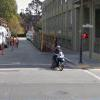Motorcycle: (38, 41, 70, 76)
